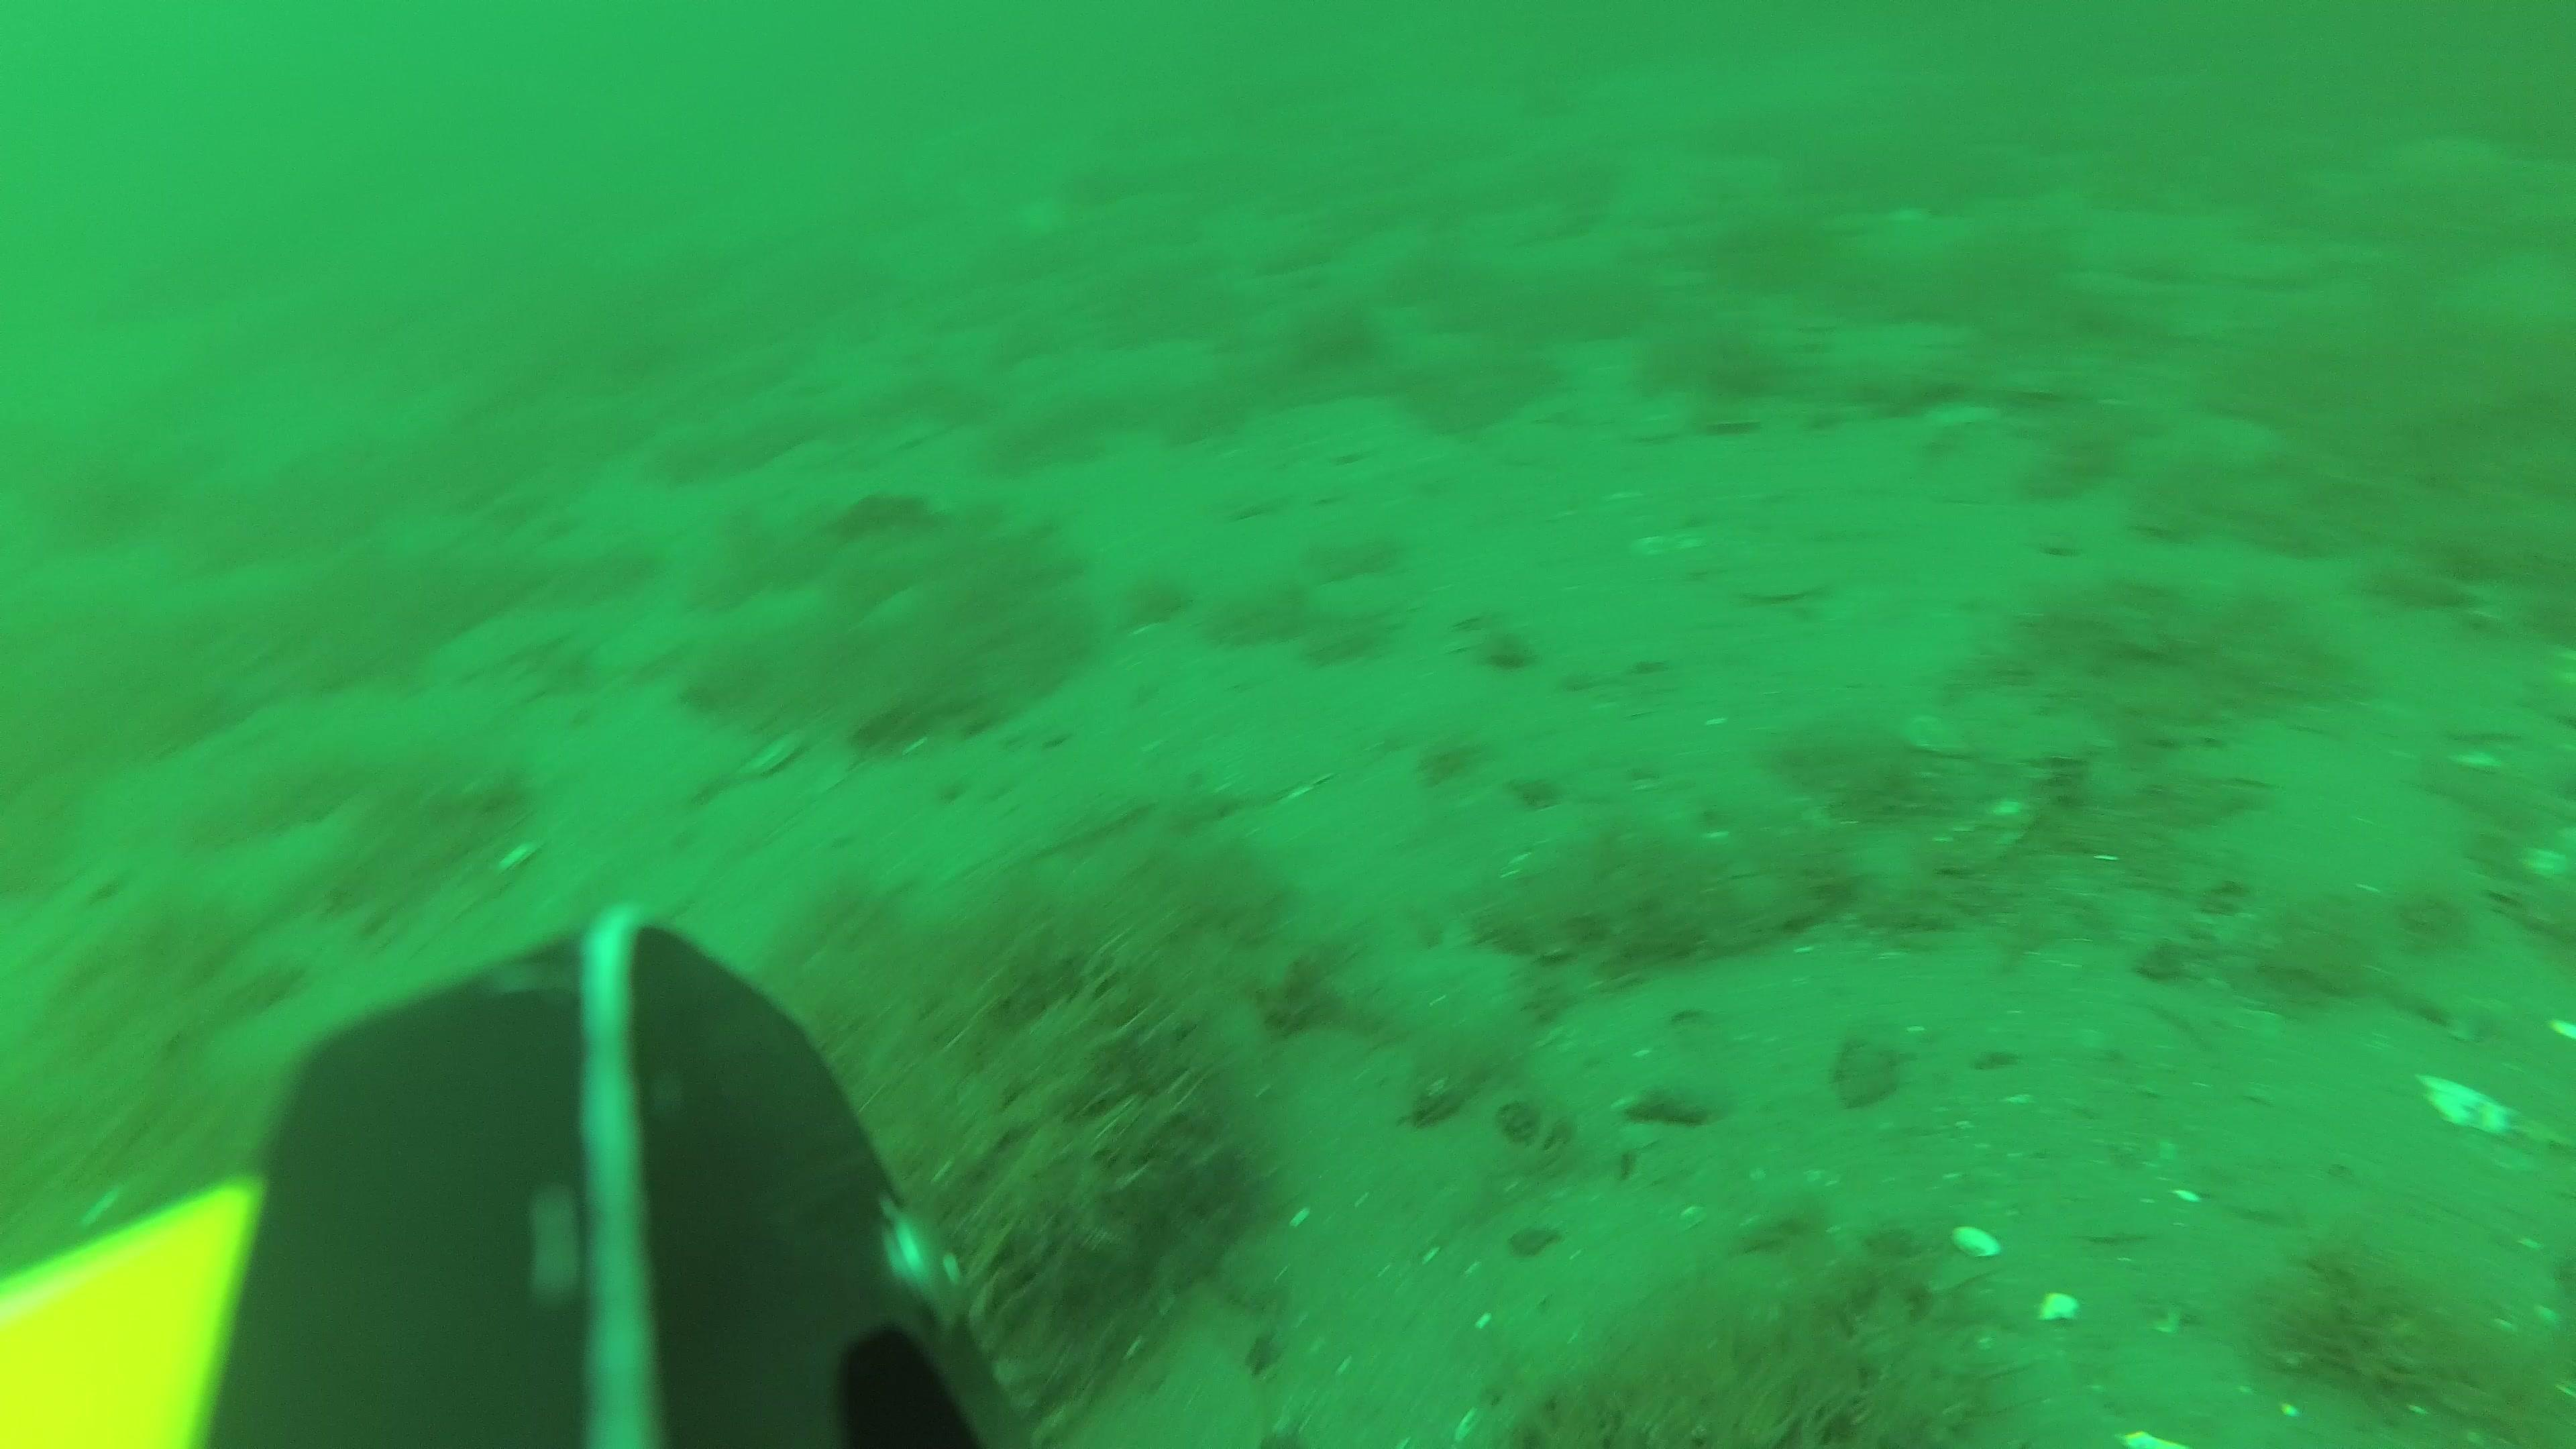scallop: (1083, 1352, 1261, 1449), (1741, 561, 1821, 609)
starfish: (2388, 133, 2512, 203)
